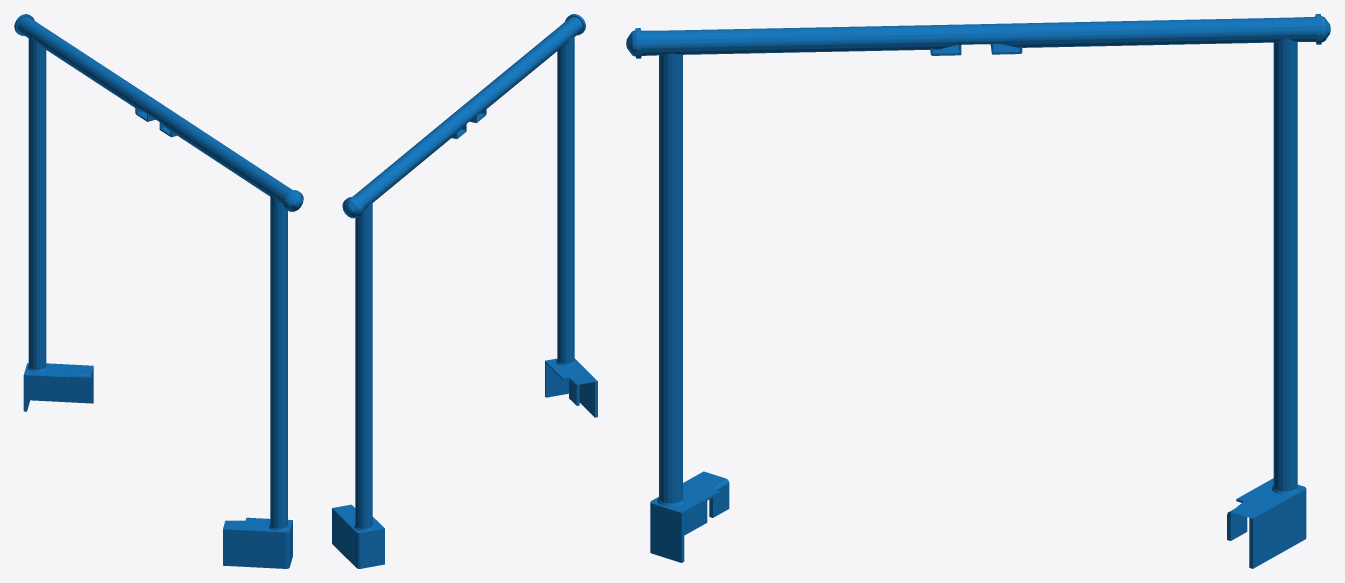
File: blue_angle1.obj
The picture shows the model from 3 angles, left to right: view 1: azimuth 30°, elevation 25°; view 2: azimuth 150°, elevation 25°; view 3: azimuth 270°, elevation 25°; orthographic projection. The views are drawn at different scales.
Size of the model in its own units: 20647 by 106074 by 129461.
